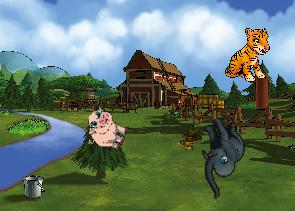elephant: (179, 111, 262, 199)
pig: (80, 104, 133, 155)
tiger: (225, 28, 270, 82)
